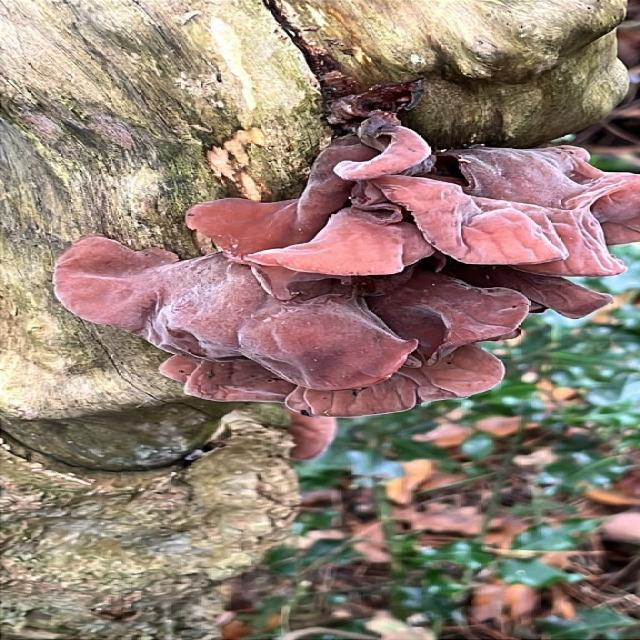Matang: (49, 91, 640, 444)
